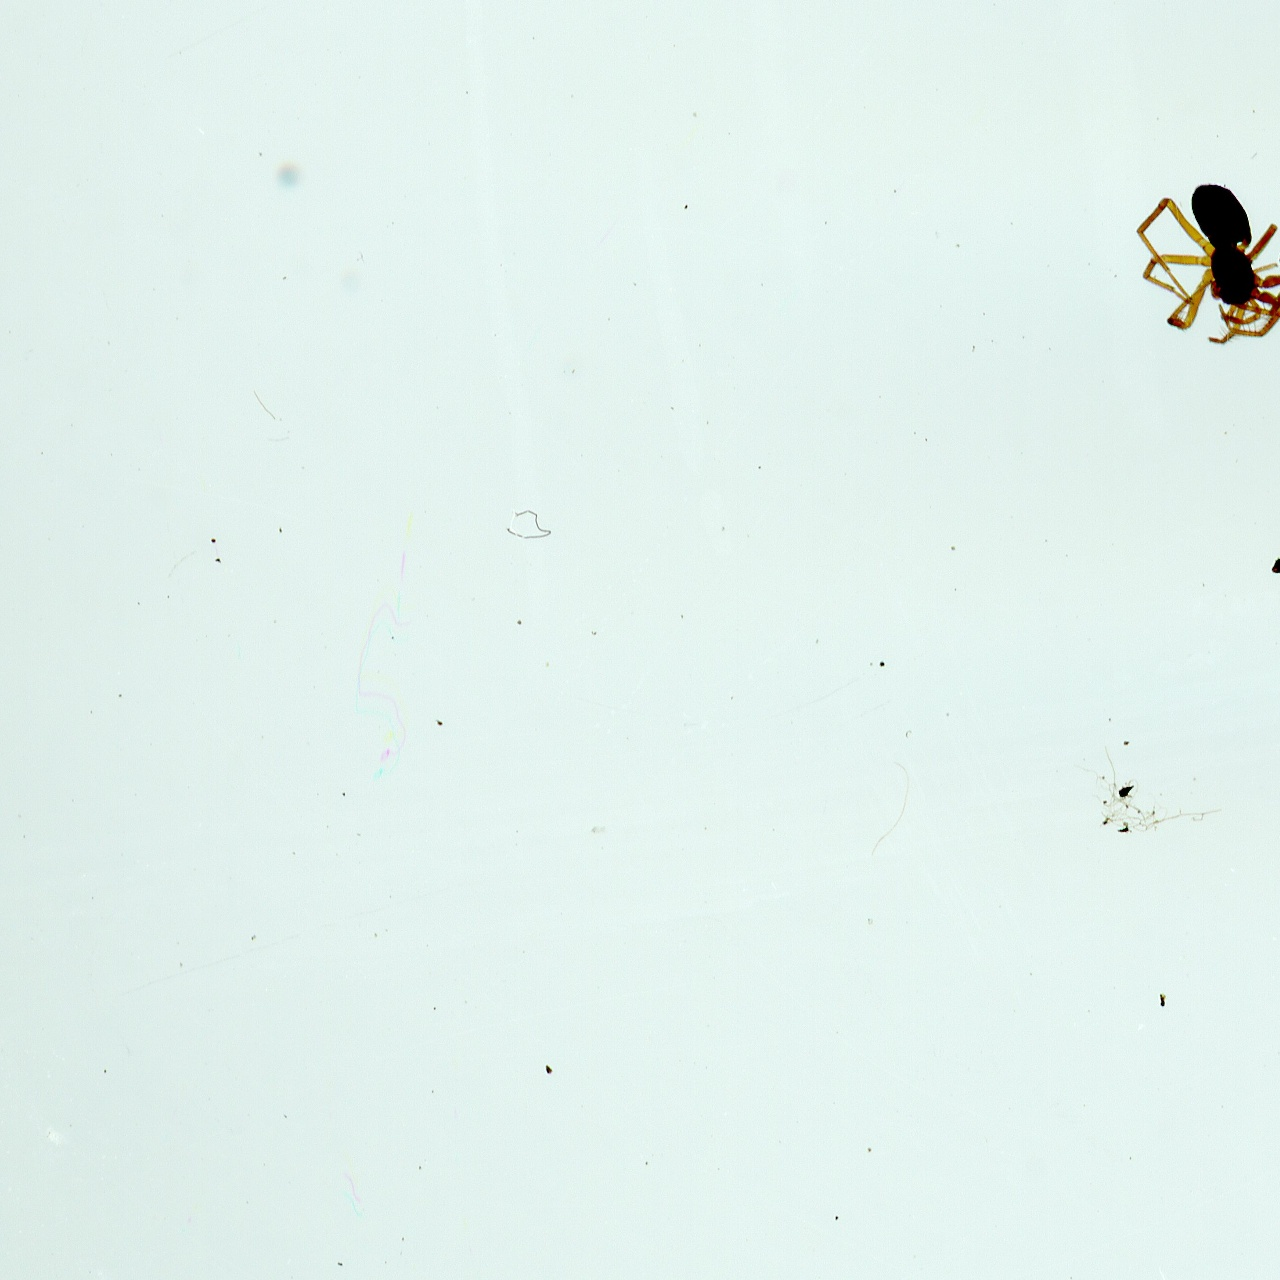arthropod: (1133, 182, 1280, 343)
